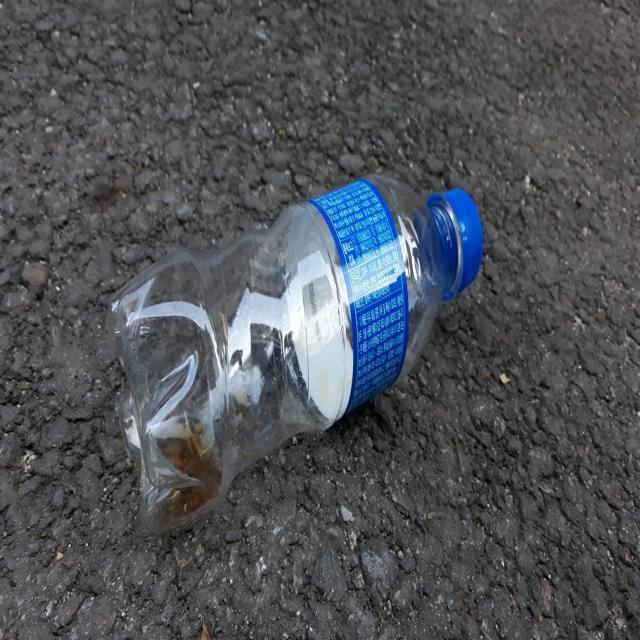plastic: (108, 174, 484, 533)
